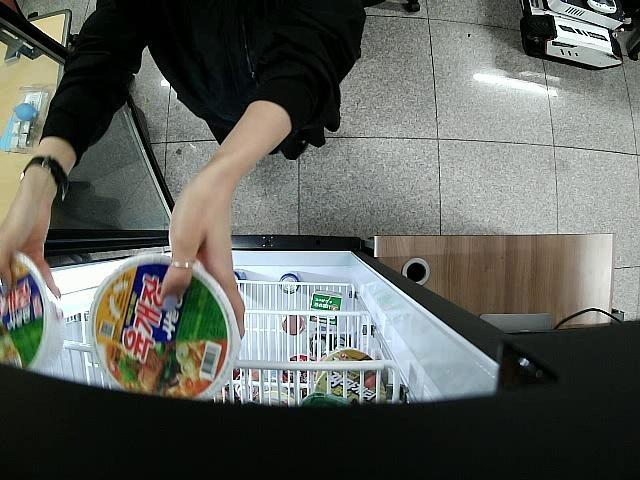09_yukGaeJang: (88, 255, 238, 400), (0, 249, 67, 374)
